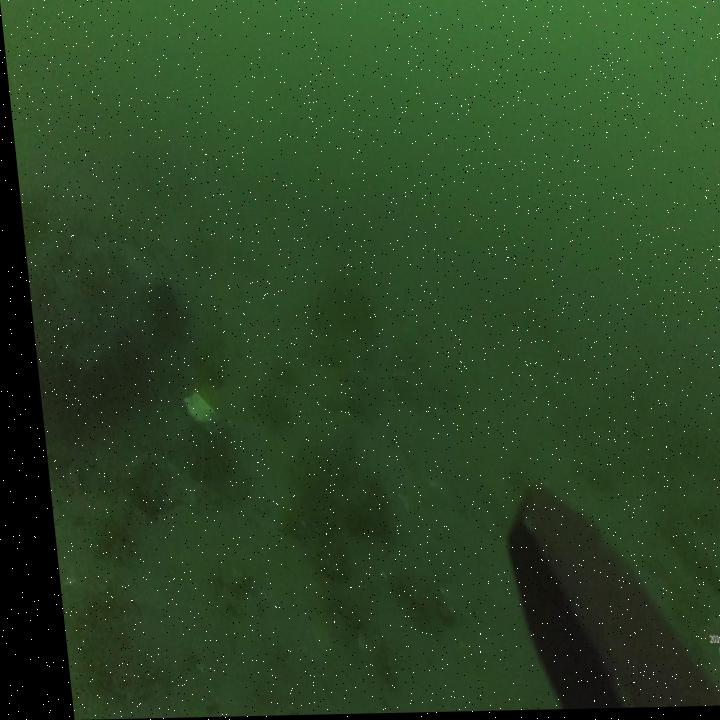starfish: (116, 446, 199, 520)
